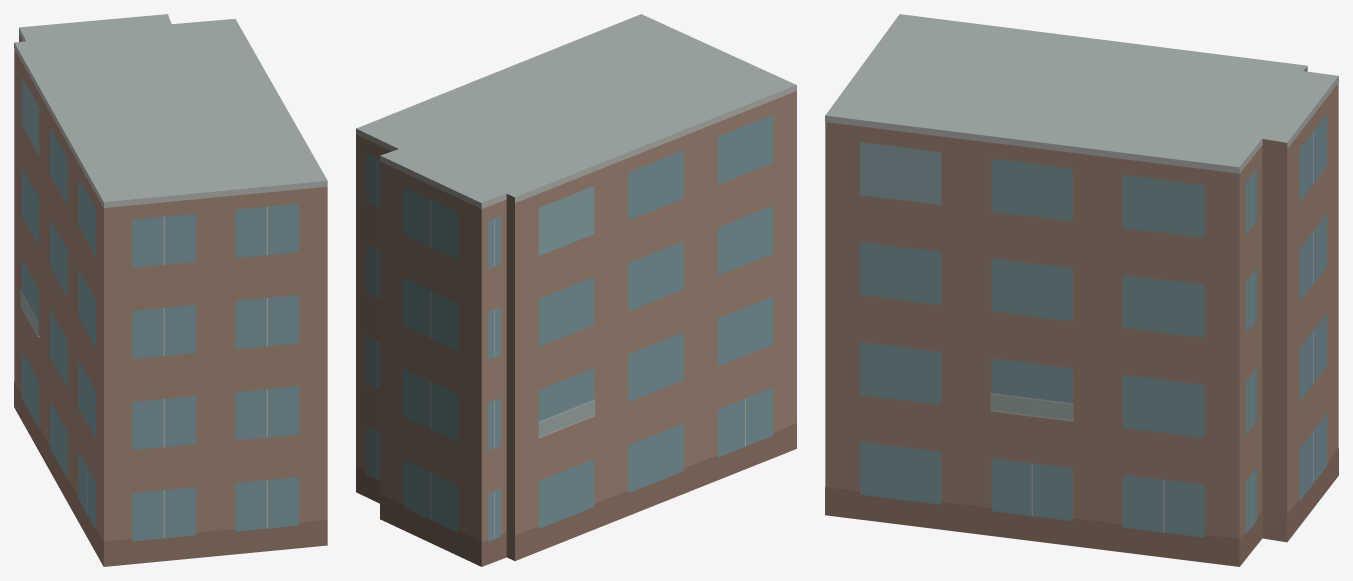
Rendered from survey-upis-32997889.glb.
3 views of the same model, side by side, from view 1: azimuth 30°, elevation 25°; view 2: azimuth 150°, elevation 25°; view 3: azimuth 270°, elevation 25° (orthographic). The views are drawn at different scales.
Visible parts, largest first — view 1: survey-upis-32997889.tmp; view 2: survey-upis-32997889.tmp; view 3: survey-upis-32997889.tmp.
Boxes of the visible parts, left/top/right/bottom form: survey-upis-32997889.tmp: left=14, top=14, right=327, bottom=566; survey-upis-32997889.tmp: left=356, top=14, right=796, bottom=566; survey-upis-32997889.tmp: left=825, top=14, right=1338, bottom=566.
Size of the model in its own units: 12.52 by 15.2 by 17.72.
